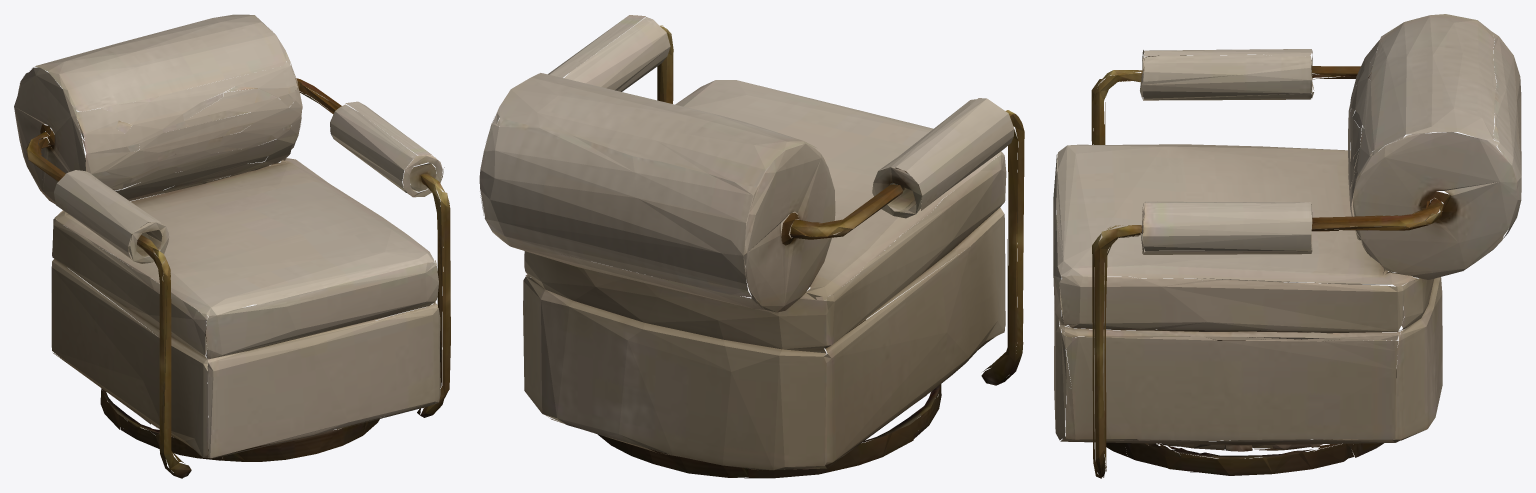
Rendered from m-fauteuil.glb.
The picture shows the model from 3 angles, left to right: view 1: azimuth 30°, elevation 25°; view 2: azimuth 150°, elevation 25°; view 3: azimuth 270°, elevation 25°; orthographic projection. The views are drawn at different scales.
Visible parts, largest first — view 1: geometry_0; view 2: geometry_0; view 3: geometry_0.
Part boxes in pixels (x1,y1,x2,y2): geometry_0: (14, 14, 450, 478); geometry_0: (479, 15, 1024, 478); geometry_0: (1053, 14, 1521, 478).
Size of the model in its own units: 0.8884 by 0.7959 by 0.9926.
Materials: 1 (1 with a texture image).
